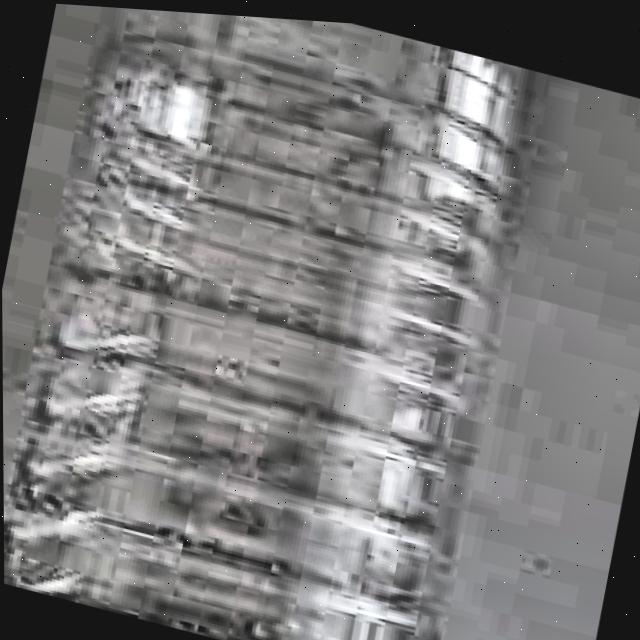plastic: (0, 0, 584, 640)
